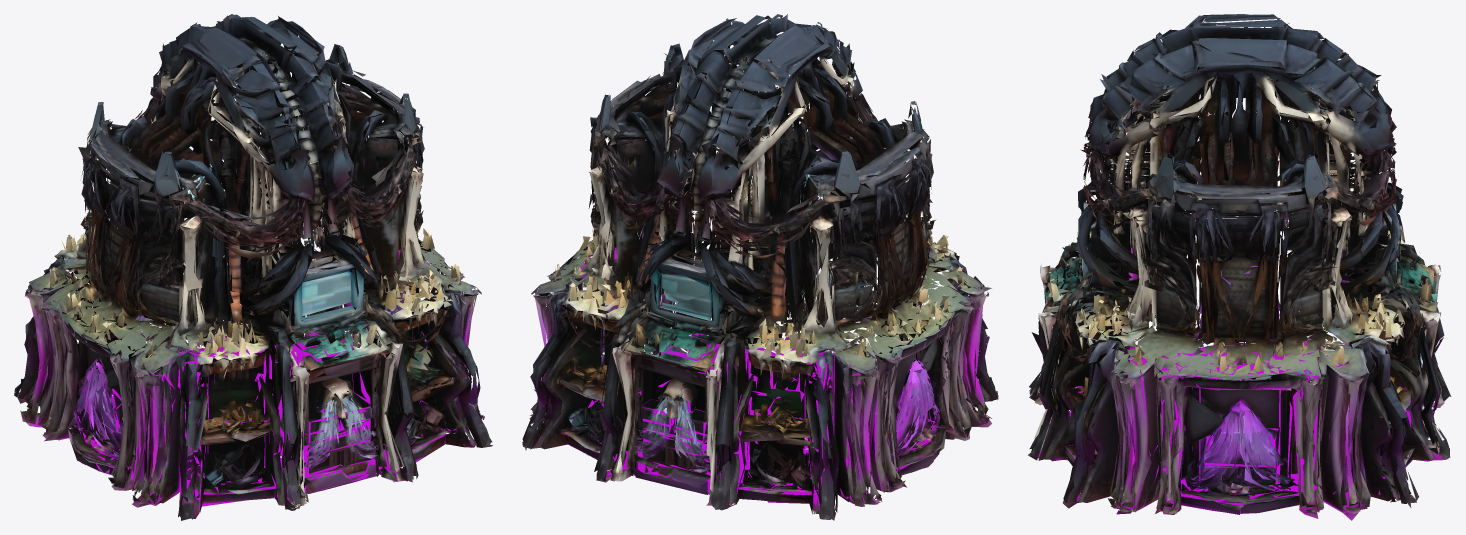
Rendered from meridian_mainframe_altar.glb.
3 renders of one model, left to right at view 1: azimuth 30°, elevation 25°; view 2: azimuth 150°, elevation 25°; view 3: azimuth 270°, elevation 25°, orthographic. The views are drawn at different scales.
Parts seen in each view (by area): view 1: node_0; view 2: node_0; view 3: node_0.
Boxes of the visible parts, left/top/right/bottom form: node_0: left=14, top=14, right=492, bottom=520; node_0: left=522, top=14, right=998, bottom=520; node_0: left=1028, top=14, right=1451, bottom=520.
Bounding box in the file's own units: 0.7605 × 0.7996 × 0.7642.
Materials: 1 (1 with a texture image).
